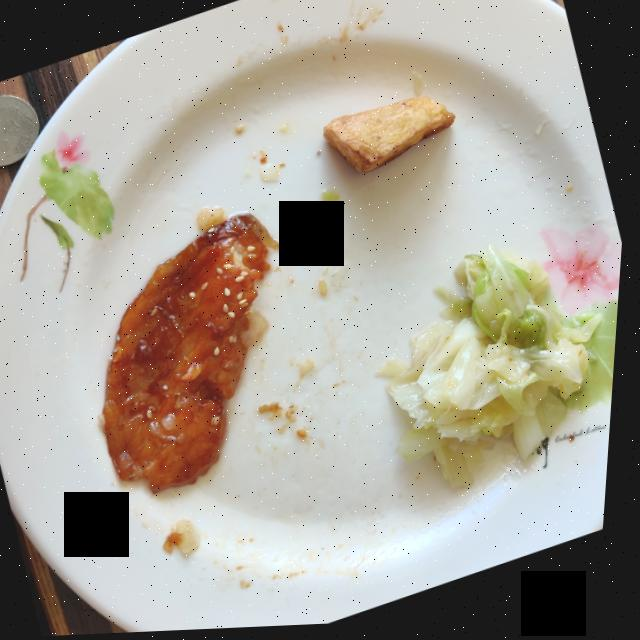Kabayaki sea bream fillet: (107, 216, 275, 495)
cabbage: (384, 249, 605, 491)
coin: (0, 95, 40, 167)
fried potato: (324, 100, 456, 176)
